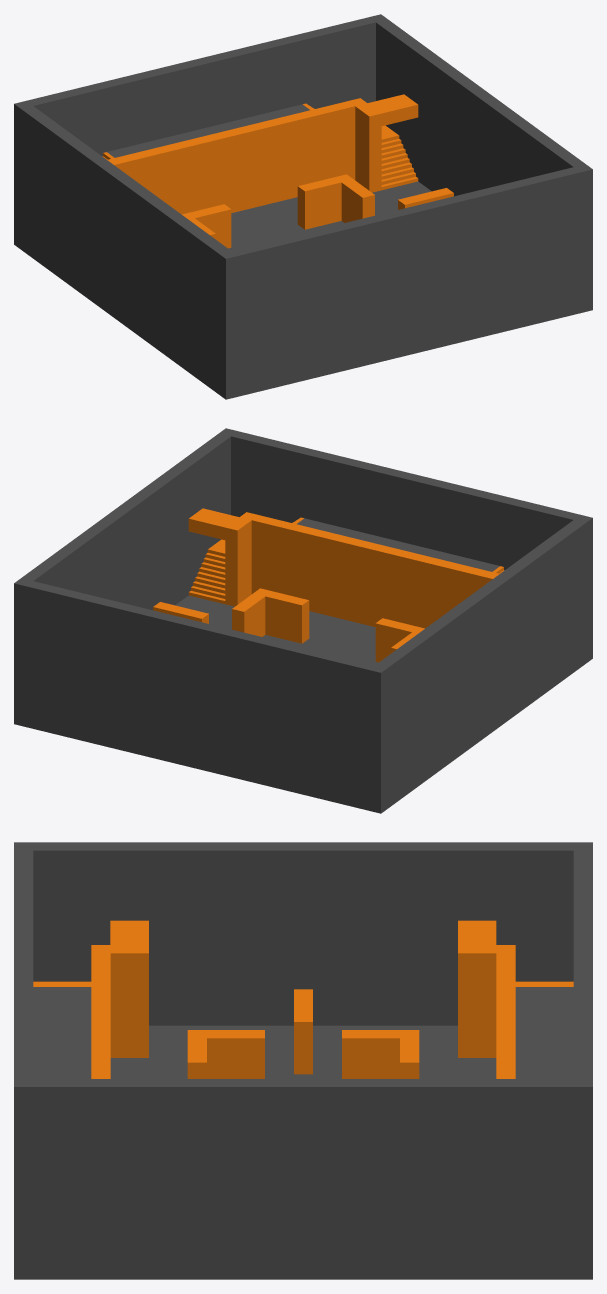
Rendered from fps_shooter_game_arena_map_v3.glb.
3 renders of one model, top to bottom at view 1: azimuth 30°, elevation 25°; view 2: azimuth 150°, elevation 25°; view 3: azimuth 270°, elevation 25°, orthographic. The views are drawn at different scales.
Parts seen in each view (by area): view 1: Object_2, Object_3; view 2: Object_2, Object_4, Object_3; view 3: Object_2, Object_3, Object_4.
Part boxes in pixels (<box>): Object_2: <box>14,14,592,399</box>; Object_3: <box>102,94,453,248</box>; Object_2: <box>14,428,592,813</box>; Object_4: <box>240,512,504,628</box>; Object_3: <box>153,508,424,662</box>; Object_2: <box>14,842,592,1279</box>; Object_3: <box>187,920,573,1078</box>; Object_4: <box>33,920,148,1078</box>.
Size of the model in its own units: 30 by 11 by 30.
4 materials, 3 textured.
